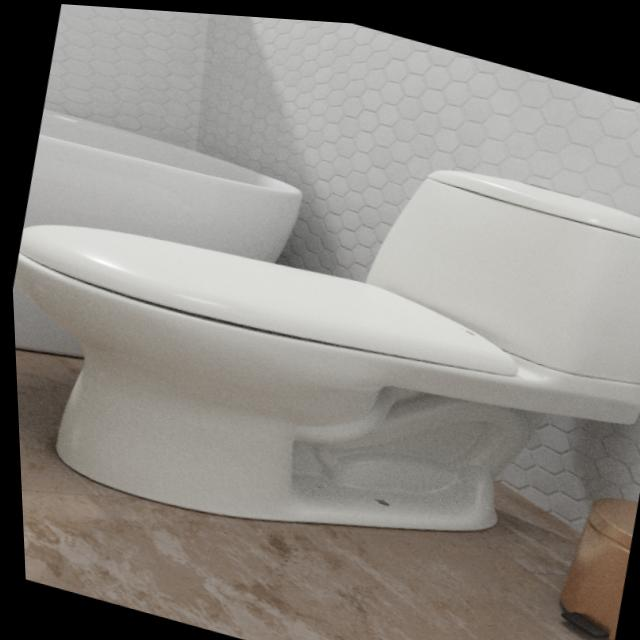toilet: (2, 47, 640, 621)
